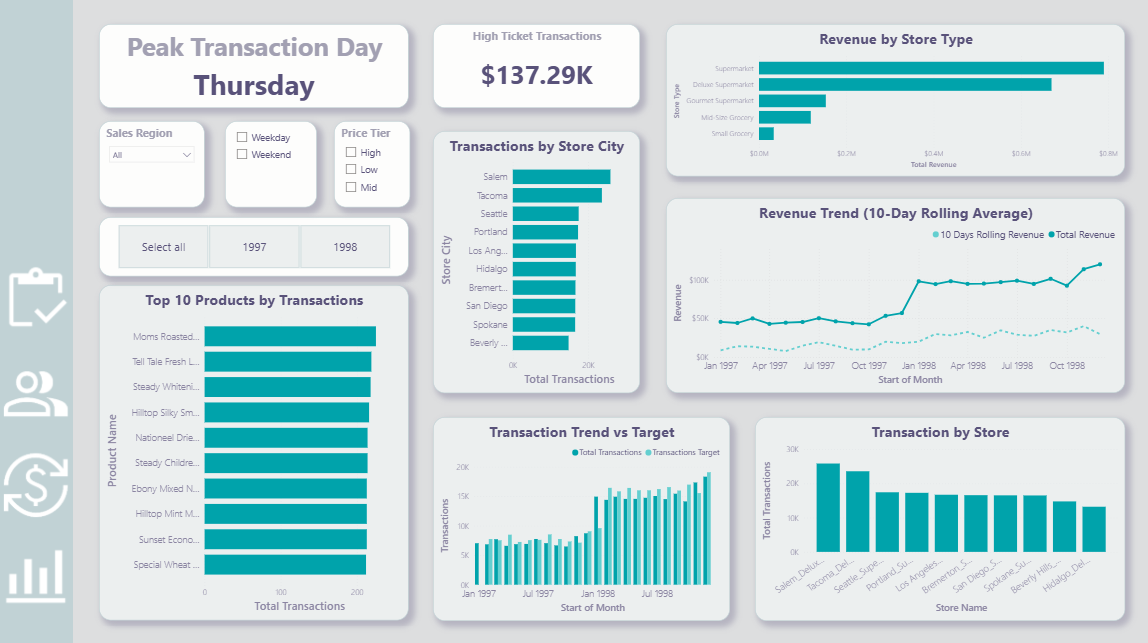

Layout of this report page (visuals, bound fields, positions):
{"tool":"powerbi","page":{"name":"Sales & Transaction Analysis","canvas":[1920,1080],"ordinal":1},"visuals":[{"type":"card","title":"High Ticket Transactions","fields":{"Values":["Measure Table.High Ticket Transactions"]},"box":[725.8,42.9,344.7,140.2],"z":0,"group":"g2"},{"type":"lineChart","title":"Revenue Trend (10-Day Rolling Average)","fields":{"Category":["Calendar.Custom Date Hierarchy.Start of Month","Calendar.Custom Date Hierarchy.Start of Quarter","Calendar.Custom Date Hierarchy.Start of Week","Calendar.Custom Date Hierarchy.Start of Year"],"Y":["Measure Table.10 Days Rolling Revenue","Measure Table.Total Revenue"]},"box":[1113.4,333.2,765.4,324.9],"z":1000,"group":"g2"},{"type":"clusteredBarChart","title":"Top 10 Products by Transactions","fields":{"Category":["Products.product_name"],"Y":["Measure Table.Total Transactions"]},"box":[168.2,478.4,516.3,559.2],"z":2000,"group":"g2"},{"type":"clusteredColumnChart","title":"Transaction by Store","fields":{"Category":["Stores.Store Name"],"Y":["Measure Table.Total Transactions"]},"box":[1261.9,697.7,616.9,339.8],"z":3000,"group":"g2"},{"type":"clusteredBarChart","title":"Revenue by Store Type","fields":{"Category":["Stores.store_type"],"Y":["Measure Table.Total Revenue"]},"box":[1113.4,42.9,765.4,254],"z":4000,"group":"g2"},{"type":"slicer","fields":{"Values":["Calendar.Year"]},"box":[168.2,364.5,516.3,99],"z":5000,"group":"g2"},{"type":"slicer","title":"Price Tier","fields":{"Values":["Products.Price_Tier"]},"box":[559.2,204.5,127,143.5],"z":6000,"group":"g2"},{"type":"lineChart","title":"60-Day Rolling Revenue Trend","fields":{"Category":["Calendar.Custom Date Hierarchy.Start of Month","Calendar.Custom Date Hierarchy.Start of Quarter","Calendar.Custom Date Hierarchy.Start of Week","Calendar.Custom Date Hierarchy.Start of Year"],"Y":["Measure Table.60-day Rolling Revenue"]},"box":[206.2,503.1,417.3,234.2],"z":6000},{"type":"slicer","title":"Sales Region","fields":{"Values":["Regions.sales_region"]},"box":[168.2,204.5,176.5,143.5],"z":7000,"group":"g2"},{"type":"clusteredBarChart","title":"Transactions by Store City","fields":{"Category":["Stores.store_city"],"Y":["Measure Table.Total Transactions"]},"box":[725.8,221,344.7,437.1],"z":8000,"group":"g2"},{"type":"shape","box":[0,0,125.4,1080.4],"z":9000,"group":"g1"},{"type":"clusteredColumnChart","title":"Transaction Trend vs Target","fields":{"Category":["Calendar.Custom Date Hierarchy.Start of Month","Calendar.Custom Date Hierarchy.Start of Quarter","Calendar.Custom Date Hierarchy.Start of Week","Calendar.Custom Date Hierarchy.Start of Year"],"Y":["Measure Table.Total Transactions","Measure Table.Transactions Target"]},"box":[725.8,697.7,494.8,339.8],"z":9000,"group":"g2"},{"type":"slicer","fields":{"Values":["Calendar.Weekday or Weekend"]},"box":[377.7,204.5,153.4,143.5],"z":10000,"group":"g2"},{"type":"group","id":"g1","title":"Group 1","box":[0,0,126,1080.4],"z":11000,"group":"g2"},{"type":"card","title":"Peak Transaction Day","fields":{"Values":["Min(Calendar.Day Name)"]},"box":[168.2,42.9,516.3,140.2],"z":12000,"group":"g2"},{"type":"actionButton","box":[0,902,126,126],"z":12000,"group":"g1"},{"type":"actionButton","box":[0,750,126,124],"z":13000,"group":"g1"},{"type":"actionButton","box":[0,596,126,124],"z":14000,"group":"g1"},{"type":"actionButton","box":[0,440,126,126],"z":15000,"group":"g1"},{"type":"group","id":"g2","title":"Group 2","box":[0,0,1878.8,1080.4],"z":18003}]}

Visuals, with their boxes on the page's 1920x1080 design canvas (x1, y1, x2, y2). These are canvas units, not pixel positions in the 1148x643 screenshot, which may show the page scaled, cropped or inside an application window:
"High Ticket Transactions" card: <bbox>726, 43, 1070, 183</bbox>
"Revenue Trend (10-Day Rolling Average)" lineChart: <bbox>1113, 333, 1879, 658</bbox>
"Top 10 Products by Transactions" clusteredBarChart: <bbox>168, 478, 684, 1038</bbox>
"Transaction by Store" clusteredColumnChart: <bbox>1262, 698, 1879, 1038</bbox>
"Revenue by Store Type" clusteredBarChart: <bbox>1113, 43, 1879, 297</bbox>
slicer - Calendar.Year: <bbox>168, 364, 684, 464</bbox>
"Price Tier" slicer: <bbox>559, 204, 686, 348</bbox>
"60-Day Rolling Revenue Trend" lineChart: <bbox>206, 503, 624, 737</bbox>
"Sales Region" slicer: <bbox>168, 204, 345, 348</bbox>
"Transactions by Store City" clusteredBarChart: <bbox>726, 221, 1070, 658</bbox>
shape: <bbox>0, 0, 125, 1080</bbox>
"Transaction Trend vs Target" clusteredColumnChart: <bbox>726, 698, 1221, 1038</bbox>
slicer - Calendar.Weekday or Weekend: <bbox>378, 204, 531, 348</bbox>
"Group 1" group: <bbox>0, 0, 126, 1080</bbox>
"Peak Transaction Day" card: <bbox>168, 43, 684, 183</bbox>
actionButton: <bbox>0, 902, 126, 1028</bbox>
actionButton: <bbox>0, 750, 126, 874</bbox>
actionButton: <bbox>0, 596, 126, 720</bbox>
actionButton: <bbox>0, 440, 126, 566</bbox>
"Group 2" group: <bbox>0, 0, 1879, 1080</bbox>
